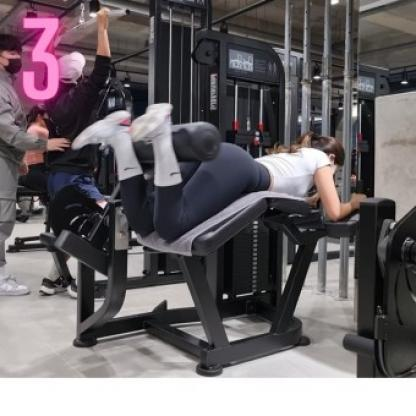reg curl machine: (42, 27, 382, 377)
